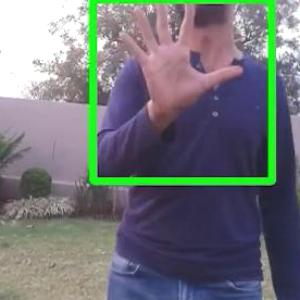follow_hand: (112, 0, 246, 121)
